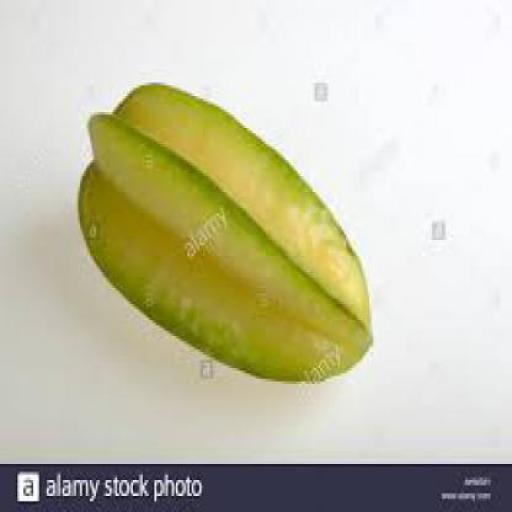biodegradable: (76, 80, 374, 382)
